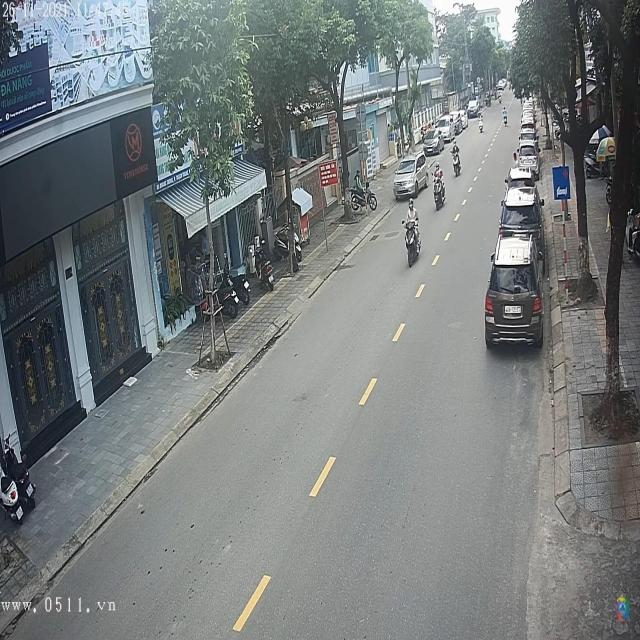car: (485, 241, 543, 350), (500, 186, 544, 238), (393, 158, 428, 202), (515, 146, 539, 173), (424, 126, 447, 154)
motorcycle: (404, 218, 424, 268), (432, 174, 448, 213), (452, 150, 462, 178)
